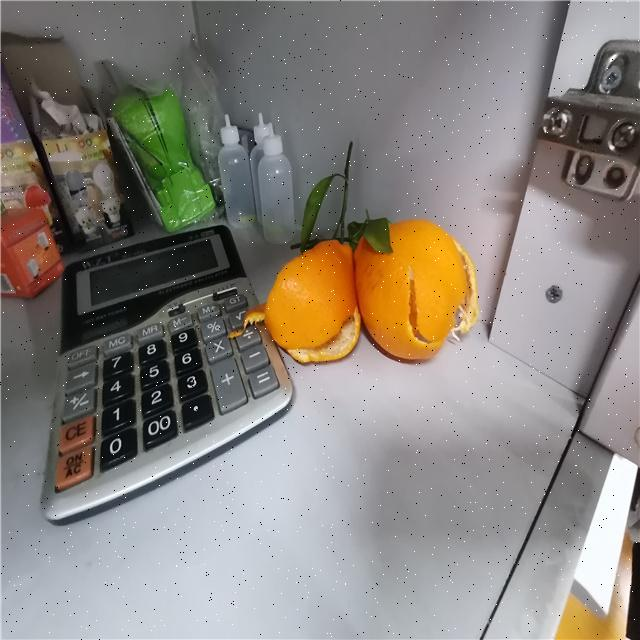orange-peel: (352, 216, 478, 361)
